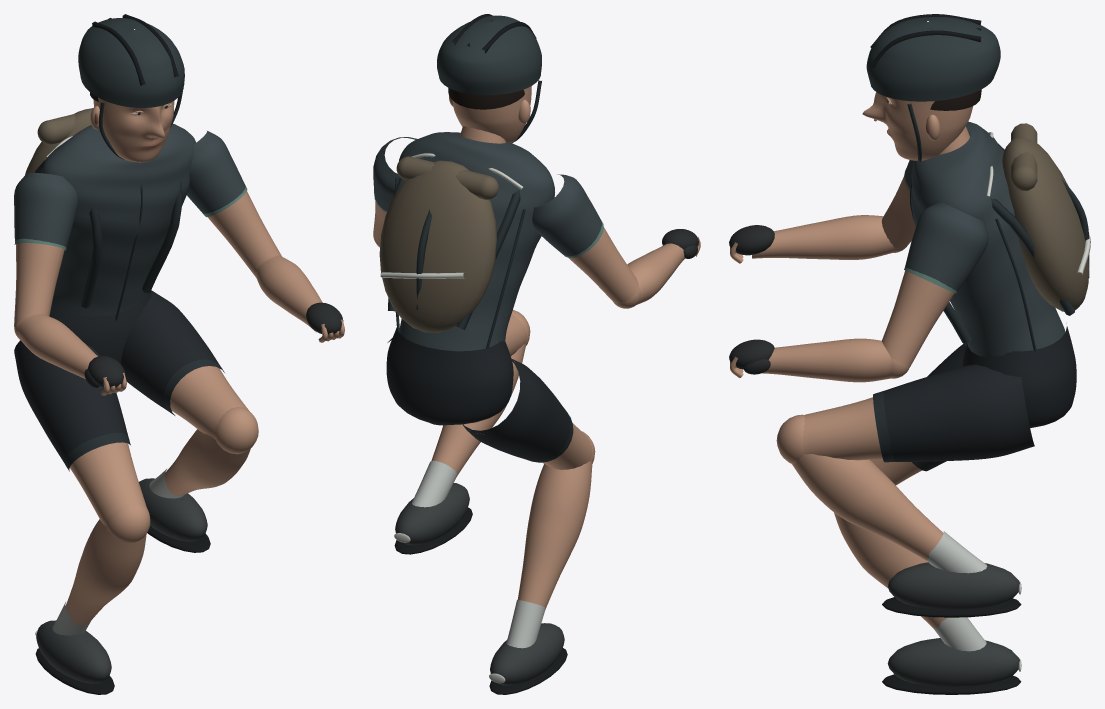
The model's file is courier-helmet.glb.
3 renders of one model, left to right at view 1: azimuth 30°, elevation 25°; view 2: azimuth 150°, elevation 25°; view 3: azimuth 270°, elevation 25°, orthographic. The views are drawn at different scales.
Parts seen in each view (by area): view 1: rider-torso, rider-head, thigh-left, thigh-right, upper-arm-left, upper-arm-right, shin-left, foot-left, shin-right, foot-right, forearm-left, anatomical-bicycle-courier (+5 smaller); view 2: rider-torso, rider-head, anatomical-bicycle-courier, shin-left, thigh-left, upper-arm-left, foot-left, shin-right, foot-right, forearm-left, upper-arm-right, hand-left (+1 smaller); view 3: rider-torso, thigh-right, rider-head, upper-arm-right, shin-right, foot-left, foot-right, anatomical-bicycle-courier, forearm-left, forearm-right, shin-left, upper-arm-left (+4 smaller).
Part boxes in pixels (x1,y1,x2,y2): rider-torso: [25, 108, 196, 320]; rider-head: [78, 14, 184, 162]; thigh-left: [14, 340, 146, 525]; thigh-right: [121, 290, 249, 439]; upper-arm-left: [14, 173, 77, 324]; upper-arm-right: [187, 131, 281, 276]; shin-left: [52, 519, 146, 635]; foot-left: [35, 620, 114, 694]; shin-right: [149, 429, 250, 498]; foot-right: [139, 478, 210, 552]; forearm-left: [17, 314, 97, 378]; anatomical-bicycle-courier: [49, 291, 151, 363]; rider-torso: [379, 126, 554, 351]; rider-head: [437, 14, 541, 142]; anatomical-bicycle-courier: [386, 327, 513, 425]; shin-left: [506, 460, 592, 648]; thigh-left: [462, 358, 592, 469]; upper-arm-left: [532, 174, 638, 303]; foot-left: [489, 623, 567, 694]; shin-right: [412, 343, 525, 507]; foot-right: [394, 483, 472, 554]; forearm-left: [627, 243, 685, 304]; upper-arm-right: [373, 137, 417, 244]; hand-left: [662, 229, 700, 258]; rider-torso: [910, 121, 1090, 357]; thigh-right: [802, 364, 1034, 462]; rider-head: [862, 14, 1000, 161]; upper-arm-right: [882, 201, 988, 367]; shin-right: [792, 454, 987, 573]; foot-left: [882, 638, 1021, 694]; foot-right: [882, 562, 1021, 617]; anatomical-bicycle-courier: [962, 326, 1076, 427]; forearm-left: [752, 215, 895, 259]; forearm-right: [762, 338, 892, 382]; shin-left: [834, 512, 986, 651]; upper-arm-left: [882, 160, 915, 248].
Bounding box in the file's own units: 0.6252 × 1.41 × 0.6676.
